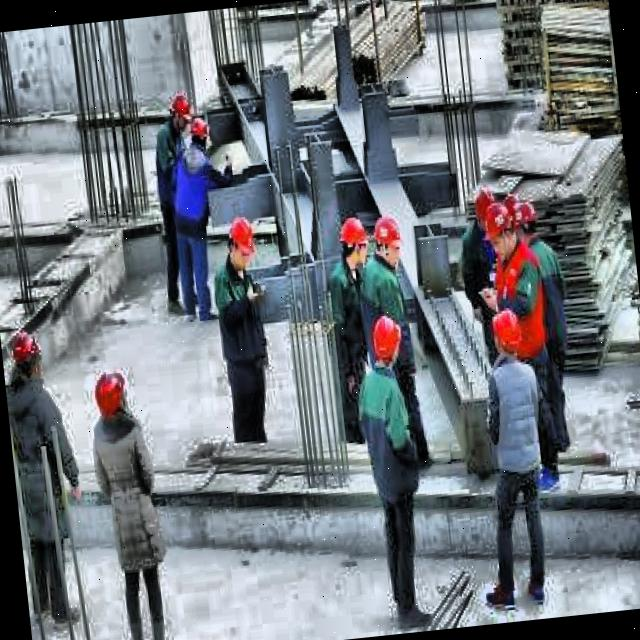helmet: (368, 212, 408, 278), (92, 367, 133, 428), (484, 306, 526, 365), (482, 200, 520, 261), (224, 212, 258, 276), (333, 212, 368, 272), (370, 312, 402, 377), (11, 324, 44, 386), (165, 84, 193, 140), (513, 198, 539, 248), (184, 112, 211, 155)
